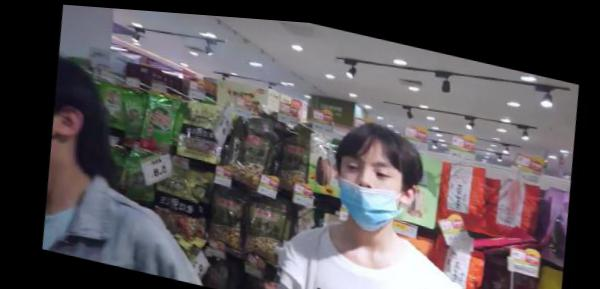WRONG: (329, 139, 403, 229)
